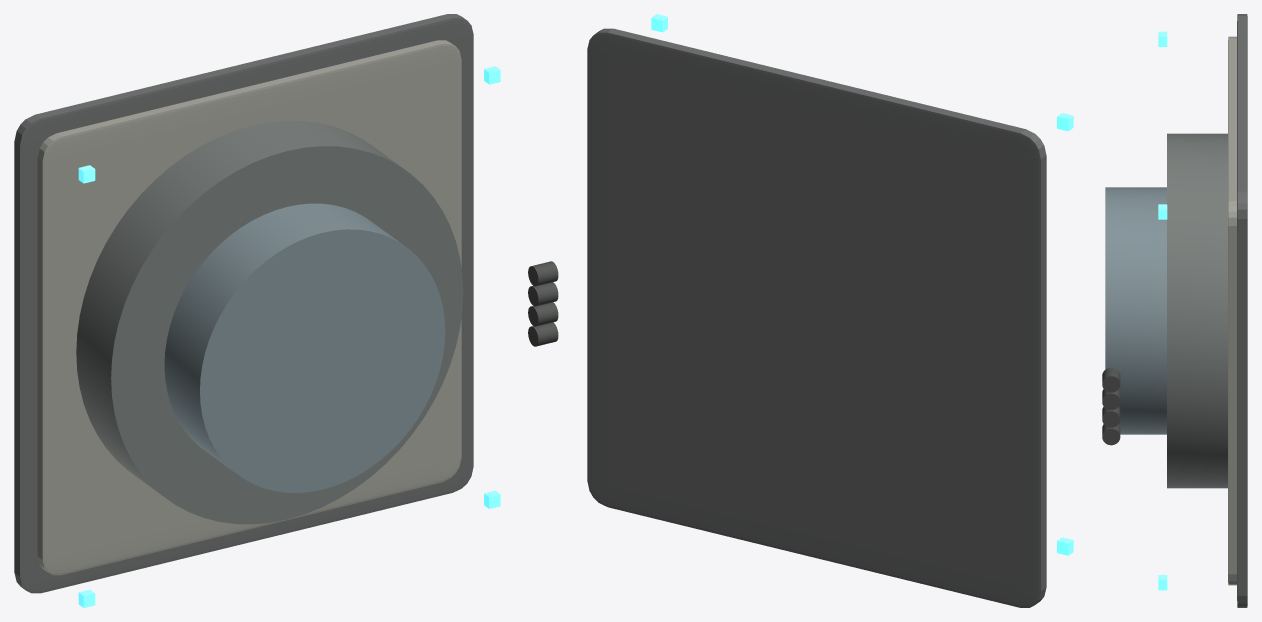
File: b-29-autocannon-turret-lod2.glb
3 views of the same model, side by side, from view 1: azimuth 30°, elevation 25°; view 2: azimuth 150°, elevation 25°; view 3: azimuth 270°, elevation 25° (orthographic). The views are drawn at different scales.
Parts seen in each view (by area): view 1: foundation_inner_pad, primary_turret_yaw, turret_base, foundation; view 2: foundation; view 3: turret_base, primary_turret_yaw, foundation, foundation_inner_pad, autocannon_muzzle_3, autocannon_muzzle_0, autocannon_muzzle_2, autocannon_muzzle_1.
Boxes of the visible parts, box(x1,y1,x2,y2) form: foundation_inner_pad: box(37, 40, 461, 575); primary_turret_yaw: box(164, 203, 445, 492); turret_base: box(76, 120, 463, 524); foundation: box(14, 14, 473, 593); foundation: box(587, 28, 1046, 607); turret_base: box(1167, 133, 1227, 488); primary_turret_yaw: box(1105, 187, 1166, 434); foundation: box(1237, 14, 1247, 607); foundation_inner_pad: box(1228, 36, 1236, 585); autocannon_muzzle_3: box(1102, 367, 1120, 392); autocannon_muzzle_0: box(1102, 424, 1120, 445); autocannon_muzzle_2: box(1102, 389, 1120, 409); autocannon_muzzle_1: box(1102, 406, 1120, 427).
Size of what is drawn, in the model's own units: 8.64 by 8.5 by 2.71.
